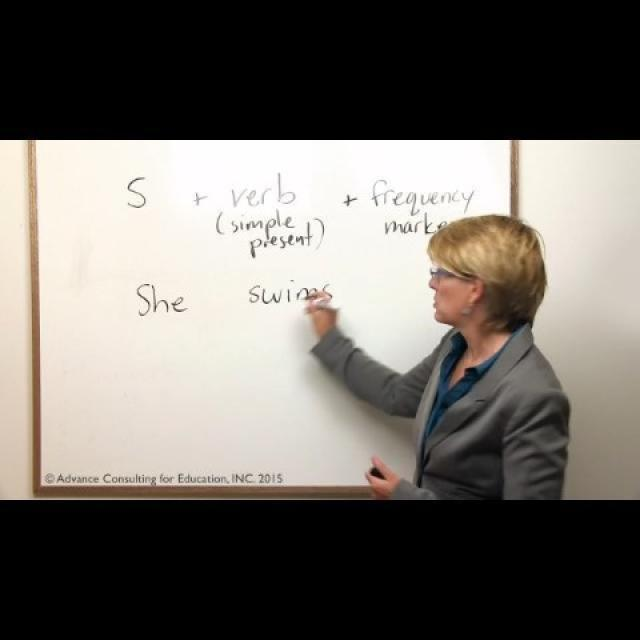Instructor: (392, 215, 586, 500)
White-board: (30, 139, 518, 490)
